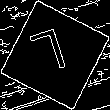L_S: (32, 26, 78, 84)
